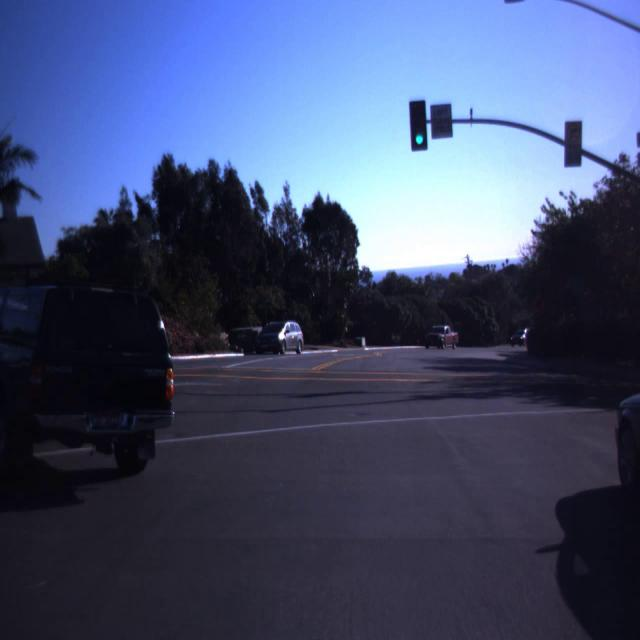yesil: (409, 101, 426, 151)
